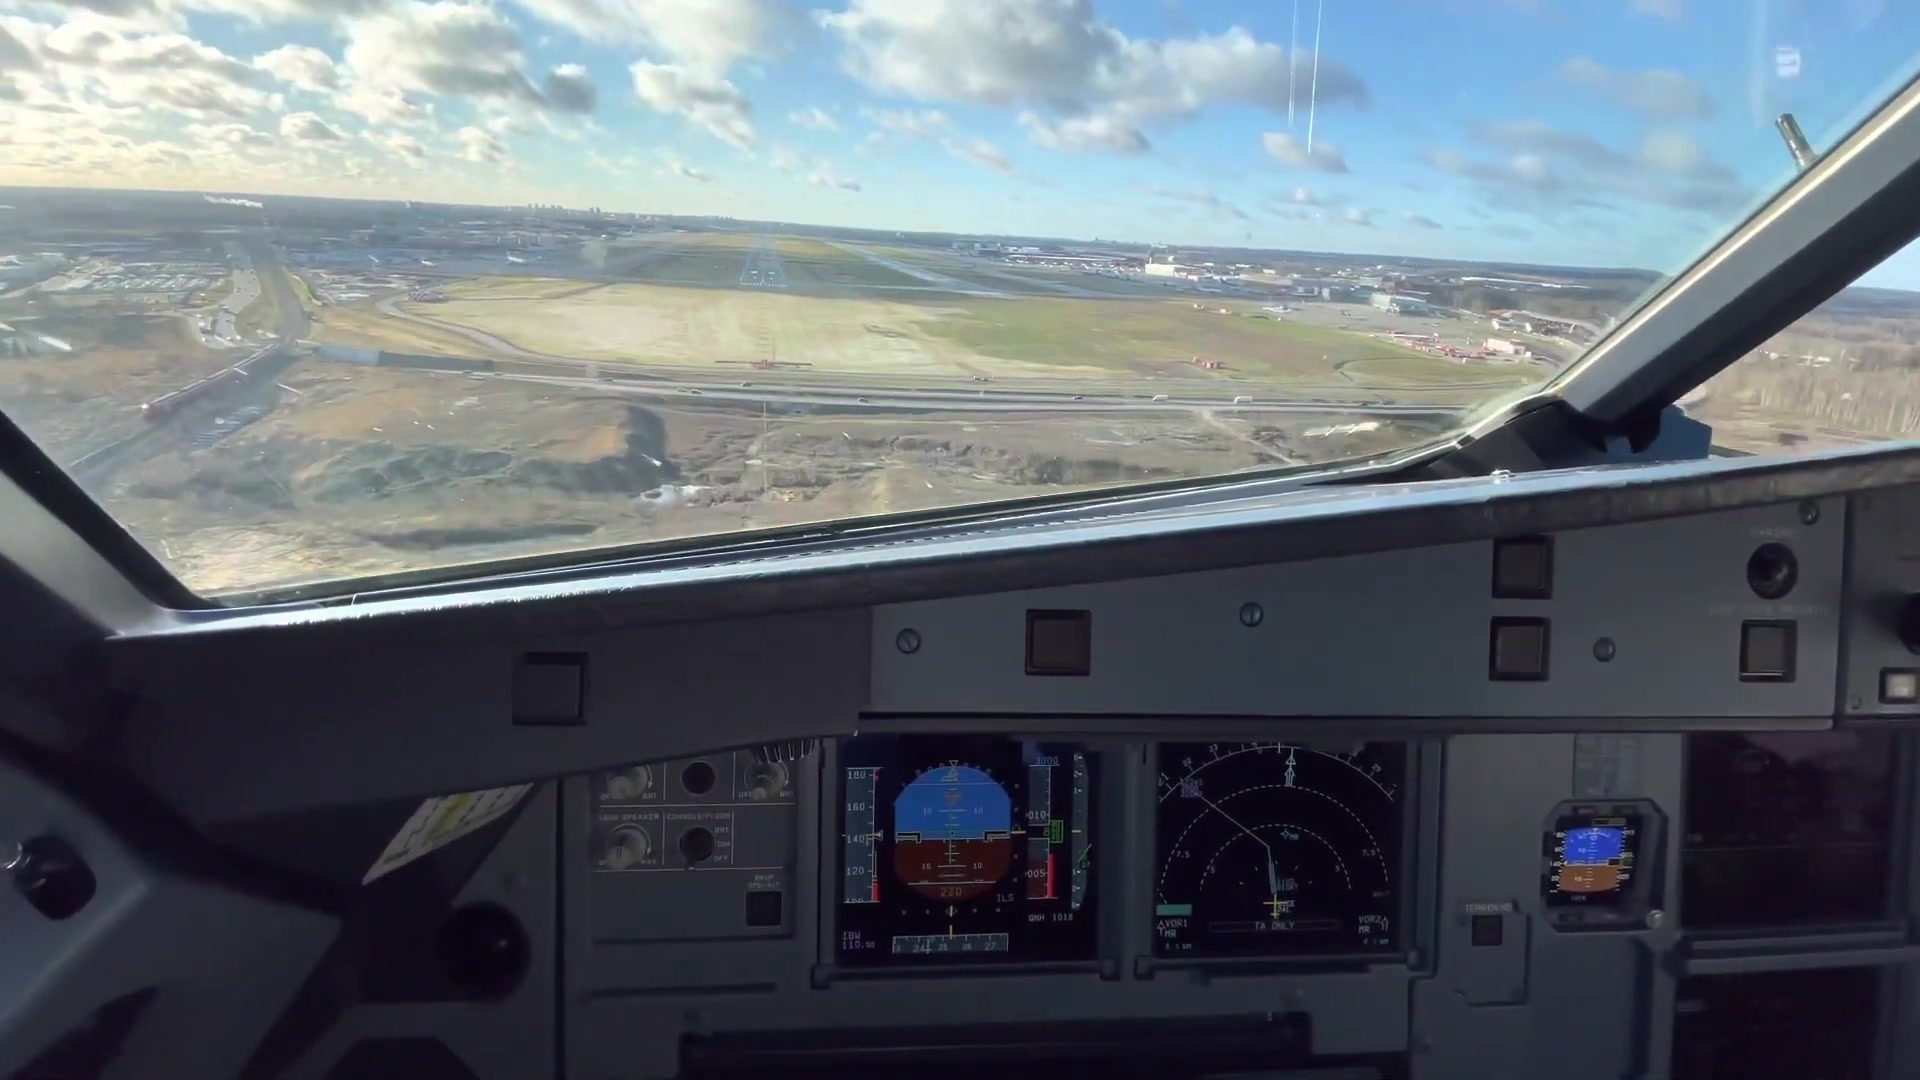runway: (736, 233, 786, 291)
